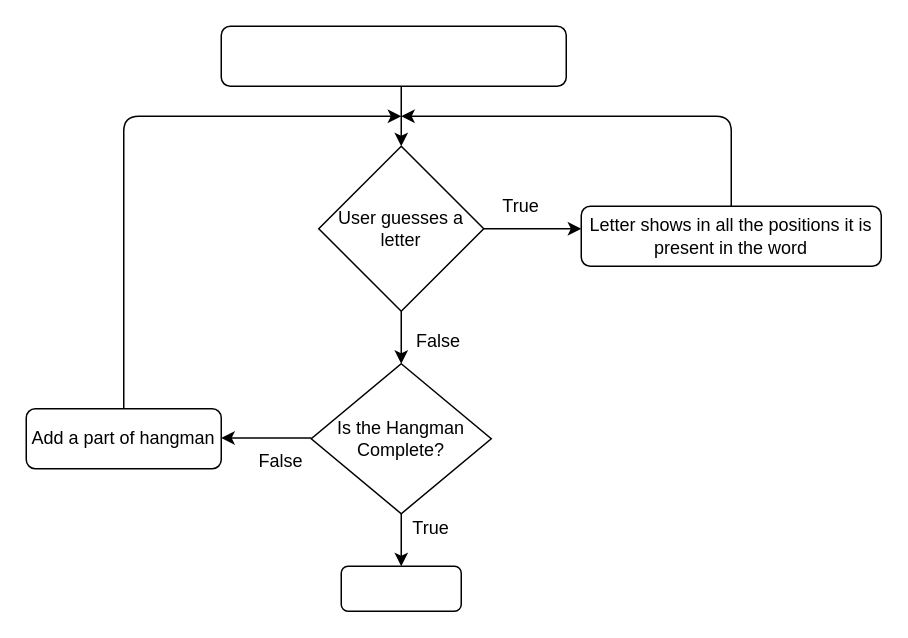
This 908x638 diagram has some shape labels left out. Each missing label, with the box of its shape:
Starts by showing dashes for a random word: (220, 25, 566, 86)
Stop: (340, 565, 461, 611)
